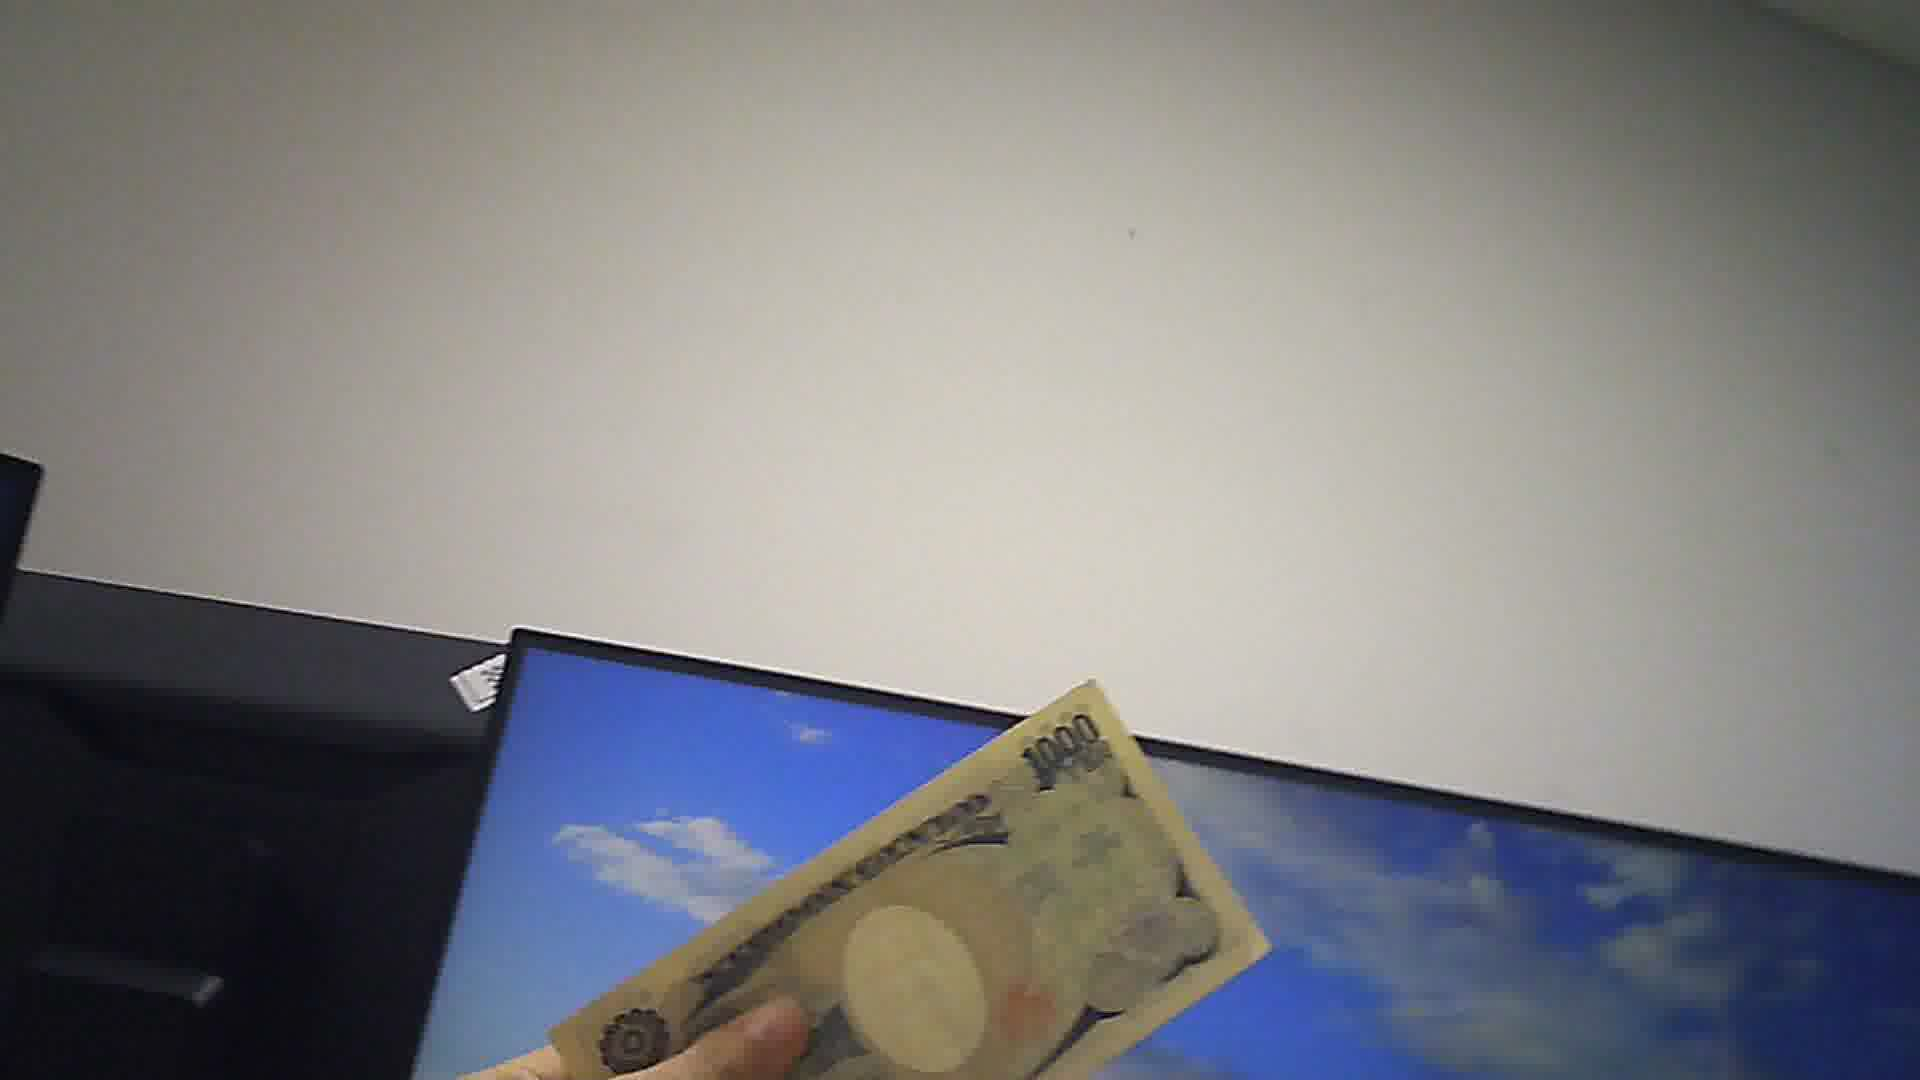1,000 Yen: (560, 683, 1261, 1079)
